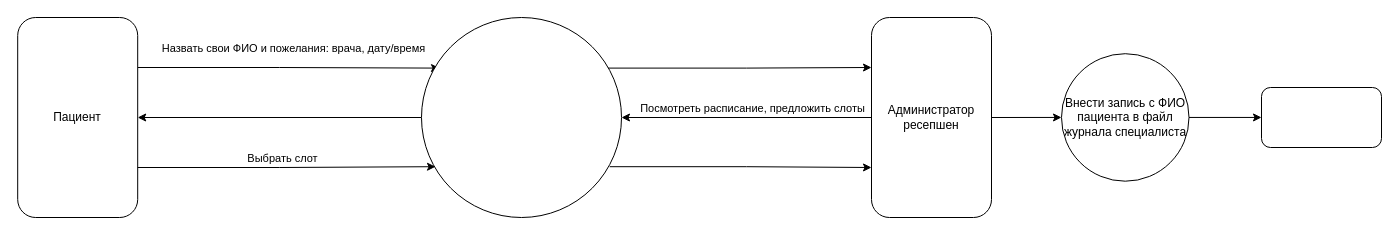
This 1399x235 diagram has some shape labels left out. Here are the shapes that lost their labels. From the top down, the centre of each, then its label:
At point (521, 117): "Запись на прием".
At point (1321, 117): "Файл журнала специалиста".
